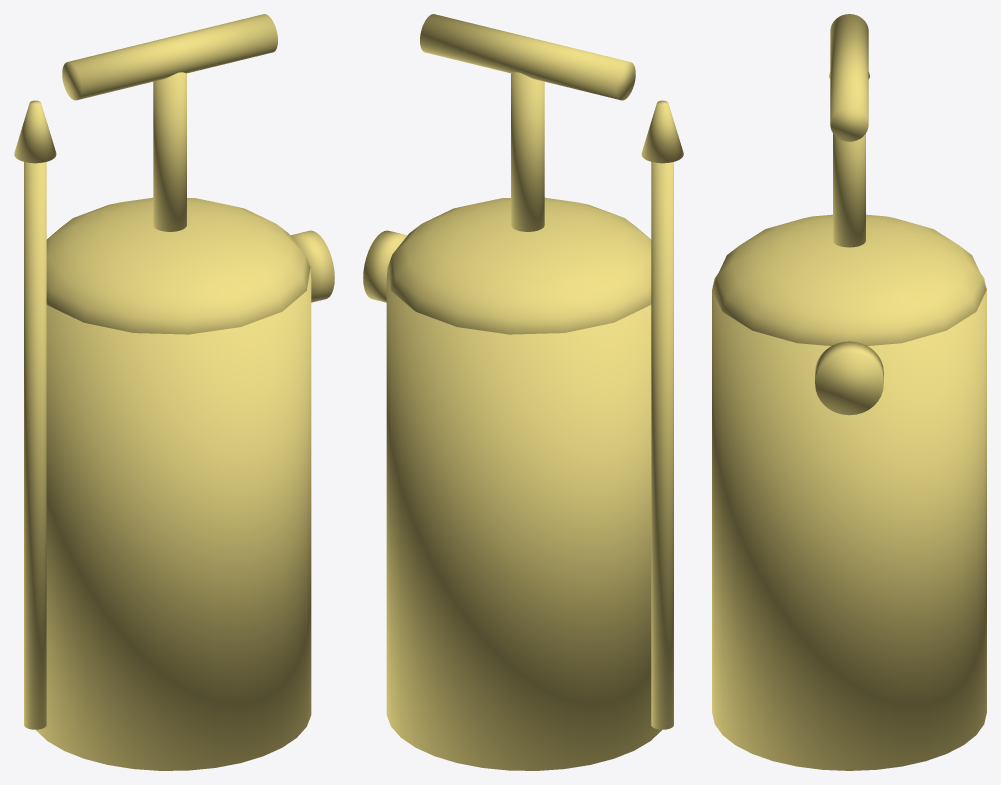
File: SM_AlmondWaterSpray.fbx
The picture shows the model from 3 angles, left to right: view 1: azimuth 30°, elevation 25°; view 2: azimuth 150°, elevation 25°; view 3: azimuth 270°, elevation 25°; orthographic projection. The views are drawn at different scales.
Visible parts, largest first — view 1: Cylinder; view 2: Cylinder; view 3: Cylinder.
Part boxes in pixels (bbox=[...]): Cylinder: bbox=[14, 14, 334, 770]; Cylinder: bbox=[363, 14, 683, 770]; Cylinder: bbox=[712, 14, 986, 770].
Bounding box in the file's own units: 24.5 × 52.4 × 20.
